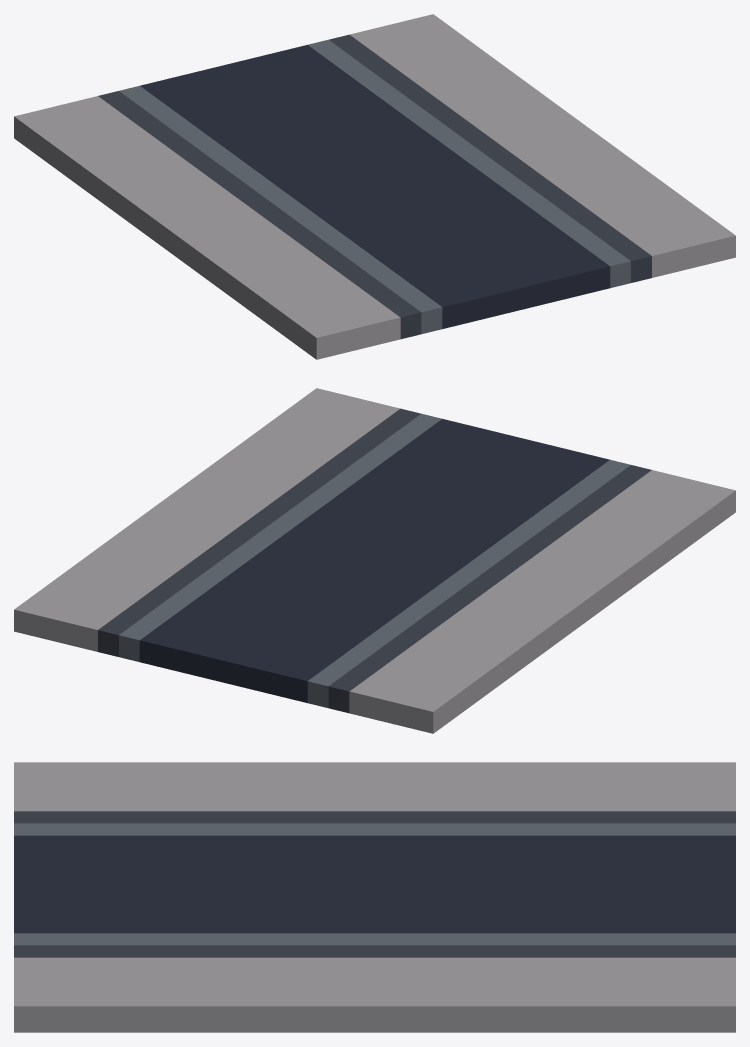
The model's file is Road(1)-2-road 3.obj.
3 views of the same model, one above another, from view 1: azimuth 30°, elevation 25°; view 2: azimuth 150°, elevation 25°; view 3: azimuth 270°, elevation 25° (orthographic). The views are drawn at different scales.
Parts seen in each view (by area): view 1: road 3; view 2: road 3; view 3: road 3.
Boxes of the visible parts, box(x1,y1,x2,y2) form: road 3: box(14, 14, 735, 359); road 3: box(14, 388, 735, 733); road 3: box(14, 762, 735, 1032).
Bounding box in the file's own units: 2 × 0.1 × 2.5.
1 material, 1 textured.
